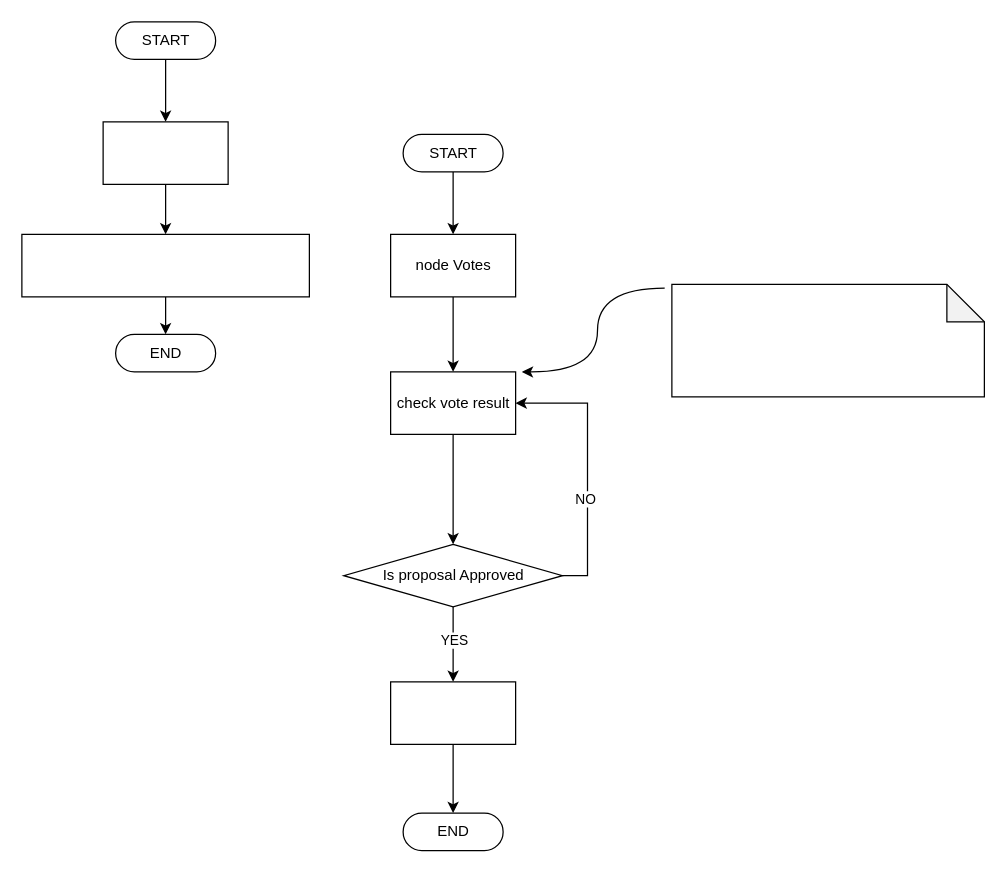
The diagram is 1006 pixels wide and 873 high, and some of its shapes have lost their labels. Each missing label, with the centre of its shape:
"Broadcast the proposal to all the nodes" belongs at [165,265].
"Create proposal" belongs at [165,152].
"process proposal" belongs at [452,712].
"When votes >= threshold, proposal approved" belongs at [827,340].
